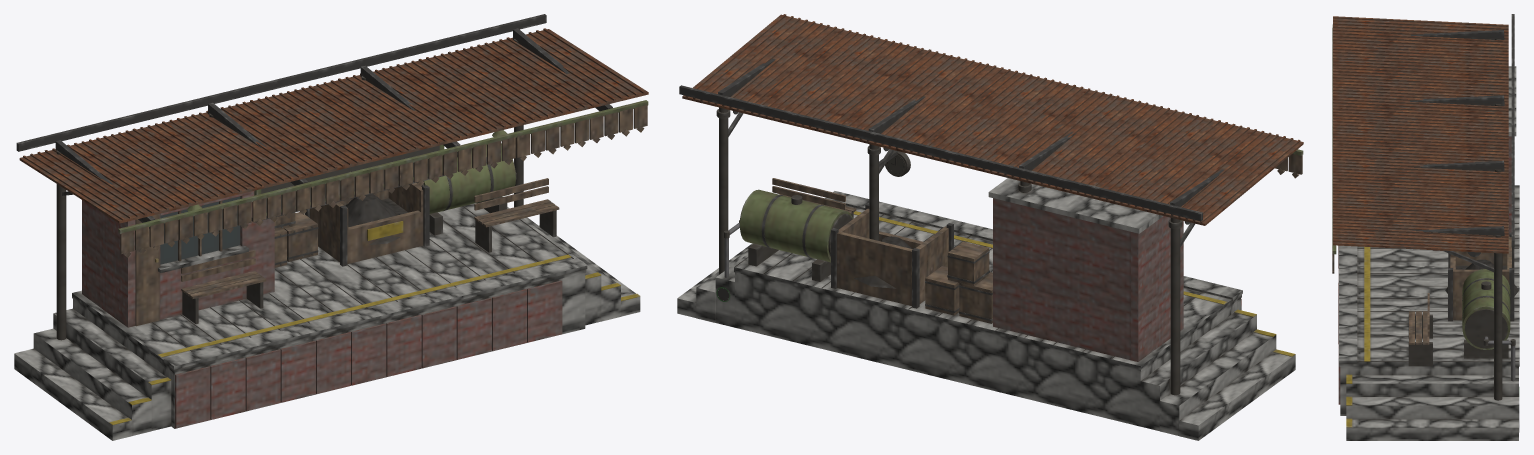
The model's file is feTrainStation_HD.fbx.
3 views of the same model, side by side, from view 1: azimuth 30°, elevation 25°; view 2: azimuth 150°, elevation 25°; view 3: azimuth 270°, elevation 25° (orthographic). The views are drawn at different scales.
Parts seen in each view (by area): view 1: feTrainStation_Base; view 2: feTrainStation_Base; view 3: feTrainStation_Base.
Boxes of the visible parts, x1,y1,x2,y2 form: feTrainStation_Base: (14,14,648,440); feTrainStation_Base: (677,14,1303,440); feTrainStation_Base: (1332,14,1519,440).
Size of the model in its own units: 9.02 by 3.71 by 3.15.
Materials: 1 (1 with a texture image).
